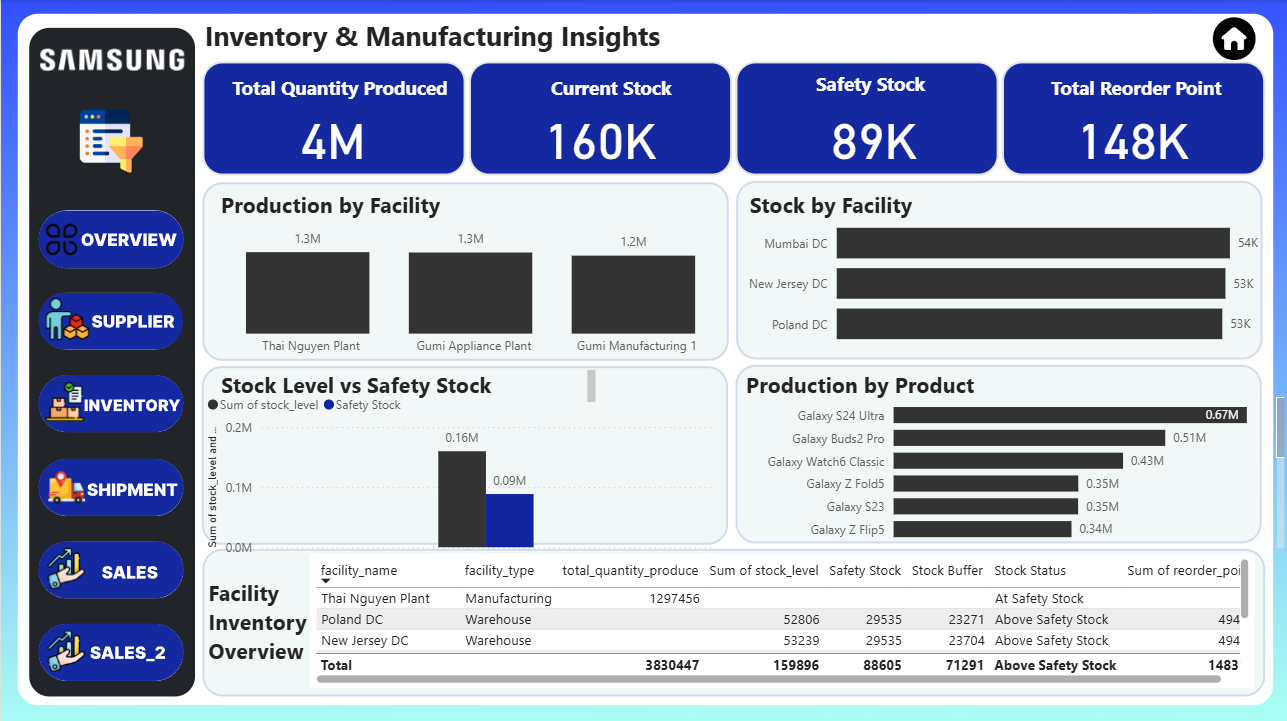

Layout of this report page (visuals, bound fields, positions):
{"tool":"powerbi","page":{"name":"Inventory & Manufacturer","canvas":[1280,720],"ordinal":3},"visuals":[{"type":"card","fields":{"Values":["Sum(fact_inventory.stock_level)"]},"box":[466.2,104.6,257.1,61],"z":0},{"type":"actionButton","box":[37.2,208.1,144.2,58.1],"z":0,"group":"g1"},{"type":"actionButton","box":[37.2,290.7,143,57],"z":0,"group":"g4"},{"type":"actionButton","box":[37.6,372.9,144,57],"z":0,"group":"g2"},{"type":"actionButton","box":[37.2,455.2,144.2,57.1],"z":0,"group":"g5"},{"type":"actionButton","box":[37.2,537.5,144.2,57.1],"z":0,"group":"g3"},{"type":"actionButton","box":[37.2,619.8,144.2,57.1],"z":0,"group":"g6"},{"type":"card","fields":{"Values":["fact_production.total_quantity_produce"]},"box":[201.3,104.5,257.1,61],"z":1000},{"type":"card","fields":{"Values":["fact_inventory.Safety Stock"]},"box":[739,104.6,257.1,61],"z":2000},{"type":"card","fields":{"Values":["Sum(fact_inventory.reorder_point)"]},"box":[996.1,104.5,257.1,61],"z":3000},{"type":"columnChart","fields":{"Category":["dim_facility.facility_name"],"Y":["fact_production.total_quantity_produce"]},"box":[174,214.3,592.2,146.8],"z":4000},{"type":"barChart","fields":{"Y":["Sum(fact_inventory.stock_level)"],"Category":["dim_facility.facility_name"]},"box":[731.2,197.4,523.4,162.3],"z":5000},{"type":"clusteredColumnChart","fields":{"Y":["Sum(fact_inventory.stock_level)","fact_inventory.Safety Stock"]},"box":[200,381.8,514.3,175.3],"z":6000},{"type":"tableEx","fields":{"Values":["dim_facility.facility_name","dim_facility.facility_type","fact_production.total_quantity_produce","Sum(fact_inventory.stock_level)","fact_inventory.Safety Stock","fact_inventory.Stock Buffer","fact_inventory.Stock Status","Sum(fact_inventory.reorder_point)"]},"box":[306.5,549.4,937.7,133.8],"z":7000},{"type":"barChart","fields":{"Category":["dim_product.product_name"],"Y":["fact_production.total_quantity_produce"]},"box":[739,381.8,541.6,167.5],"z":8000},{"type":"textbox","box":[224.7,70.1,259.7,39],"z":9000},{"type":"textbox","box":[541.6,70.1,144.2,39],"z":10000},{"type":"textbox","box":[803.9,66.2,128.6,39],"z":11000},{"type":"textbox","box":[1037.7,70.1,194.8,39],"z":12000},{"type":"textbox","box":[213,183.1,302.6,48.1],"z":13000},{"type":"textbox","box":[739,183.1,302.6,48.1],"z":14000},{"type":"textbox","box":[735.1,362.3,302.6,48.1],"z":15000},{"type":"textbox","box":[213,362.3,381.8,48.1],"z":16000},{"type":"textbox","box":[201.3,568.8,129.9,114.3],"z":17000},{"type":"group","id":"g1","title":"overview_button","box":[37.2,208.1,144.2,58.1],"z":19000},{"type":"group","id":"g2","title":"overview_button","box":[37.6,372.9,144,57],"z":20000},{"type":"group","id":"g3","title":"overview_button","box":[37.2,537.5,144.2,57],"z":21000},{"type":"group","id":"g4","title":"overview_button","box":[37.2,290.7,143,57],"z":22000},{"type":"group","id":"g5","title":"overview_button","box":[37.2,455.2,144.2,57],"z":23000},{"type":"group","id":"g6","title":"overview_button","box":[37.2,619.8,144.2,57],"z":24000},{"type":"image","box":[56.4,104.5,106.9,72],"z":25000},{"type":"textbox","box":[197.6,12.3,520.3,46.9],"z":25501},{"type":"image","box":[1184.7,12.3,80.4,52.5],"z":25502}]}

Visuals, with their boxes in screenshot pixels (x1, y1, x2, y2), scaled from the page's 1280x720 canvas onto the 1287x721 screenshot:
card - Sum(fact_inventory.stock_level): x1=469, y1=105, x2=727, y2=166
actionButton: x1=37, y1=208, x2=182, y2=267
actionButton: x1=37, y1=291, x2=181, y2=348
actionButton: x1=38, y1=373, x2=183, y2=430
actionButton: x1=37, y1=456, x2=182, y2=513
actionButton: x1=37, y1=538, x2=182, y2=595
actionButton: x1=37, y1=621, x2=182, y2=678
card - fact_production.total_quantity_produce: x1=202, y1=105, x2=461, y2=166
card - fact_inventory.Safety Stock: x1=743, y1=105, x2=1002, y2=166
card - Sum(fact_inventory.reorder_point): x1=1002, y1=105, x2=1260, y2=166
columnChart - dim_facility.facility_name x fact_production.total_quantity_produce: x1=175, y1=215, x2=770, y2=362
barChart - Sum(fact_inventory.stock_level) x dim_facility.facility_name: x1=735, y1=198, x2=1261, y2=360
clusteredColumnChart - Sum(fact_inventory.stock_level) x fact_inventory.Safety Stock: x1=201, y1=382, x2=718, y2=558
tableEx - dim_facility.facility_name x dim_facility.facility_type: x1=308, y1=550, x2=1251, y2=684
barChart - dim_product.product_name x fact_production.total_quantity_produce: x1=743, y1=382, x2=1286, y2=550
textbox: x1=226, y1=70, x2=487, y2=109
textbox: x1=545, y1=70, x2=690, y2=109
textbox: x1=808, y1=66, x2=938, y2=105
textbox: x1=1043, y1=70, x2=1239, y2=109
textbox: x1=214, y1=183, x2=518, y2=232
textbox: x1=743, y1=183, x2=1047, y2=232
textbox: x1=739, y1=363, x2=1043, y2=411
textbox: x1=214, y1=363, x2=598, y2=411
textbox: x1=202, y1=570, x2=333, y2=684
"overview_button" group: x1=37, y1=208, x2=182, y2=267
"overview_button" group: x1=38, y1=373, x2=183, y2=430
"overview_button" group: x1=37, y1=538, x2=182, y2=595
"overview_button" group: x1=37, y1=291, x2=181, y2=348
"overview_button" group: x1=37, y1=456, x2=182, y2=513
"overview_button" group: x1=37, y1=621, x2=182, y2=678
image: x1=57, y1=105, x2=164, y2=177
textbox: x1=199, y1=12, x2=722, y2=59
image: x1=1191, y1=12, x2=1272, y2=65
